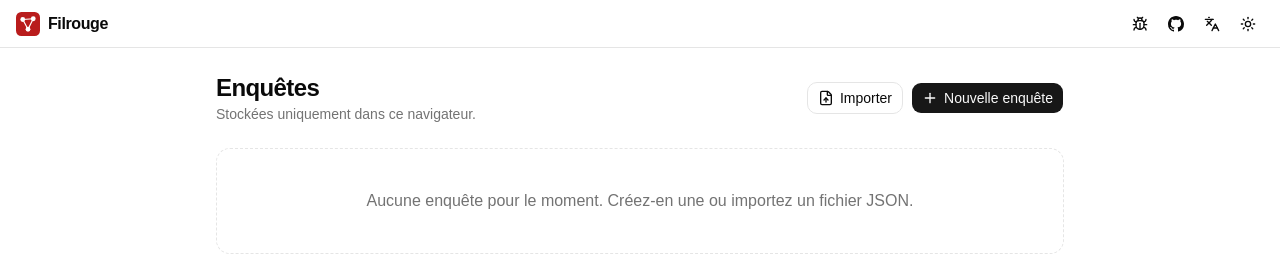
LanguageMenu › switches the whole header to English and remembers it
Click the button named "Changer de langue". click: (1212, 24)
box: [1196,8,1228,40]
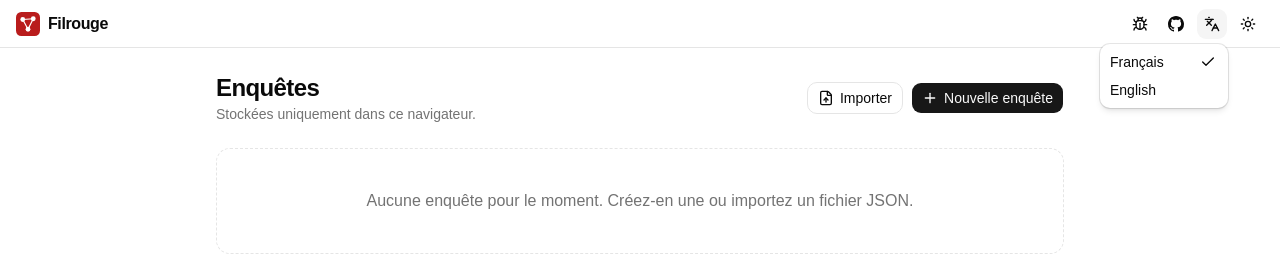
Click the menu item "English". click: (1133, 90)
box: [1110,82,1156,98]
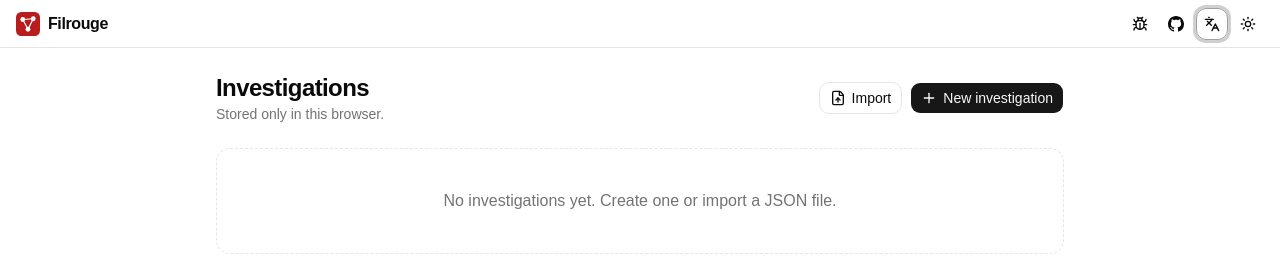
Expected: the button named "Change theme" is shown, [1232,8,1264,40]
Now the button named "Change language" is shown, box [1196,8,1228,40]
